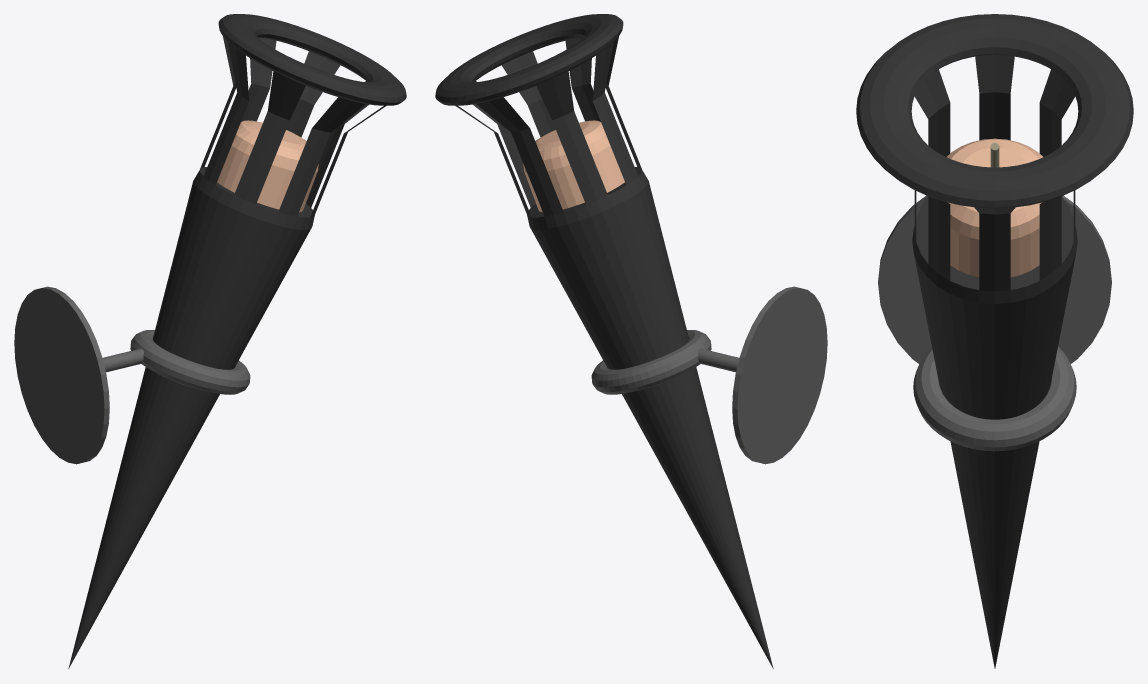
The model's file is Wandkerzenhalter.obj.
3 renders of one model, left to right at view 1: azimuth 30°, elevation 25°; view 2: azimuth 150°, elevation 25°; view 3: azimuth 270°, elevation 25°, orthographic. The views are drawn at different scales.
Parts seen in each view (by area): view 1: Torus.001; view 2: Torus.001; view 3: Torus.001.
Boxes of the visible parts, bbox=[...] form: Torus.001: bbox=[14, 14, 406, 668]; Torus.001: bbox=[435, 14, 827, 668]; Torus.001: bbox=[856, 14, 1133, 668].
Bounding box in the file's own units: 1.46 × 2.48 × 0.818.
1 material, 1 textured.
